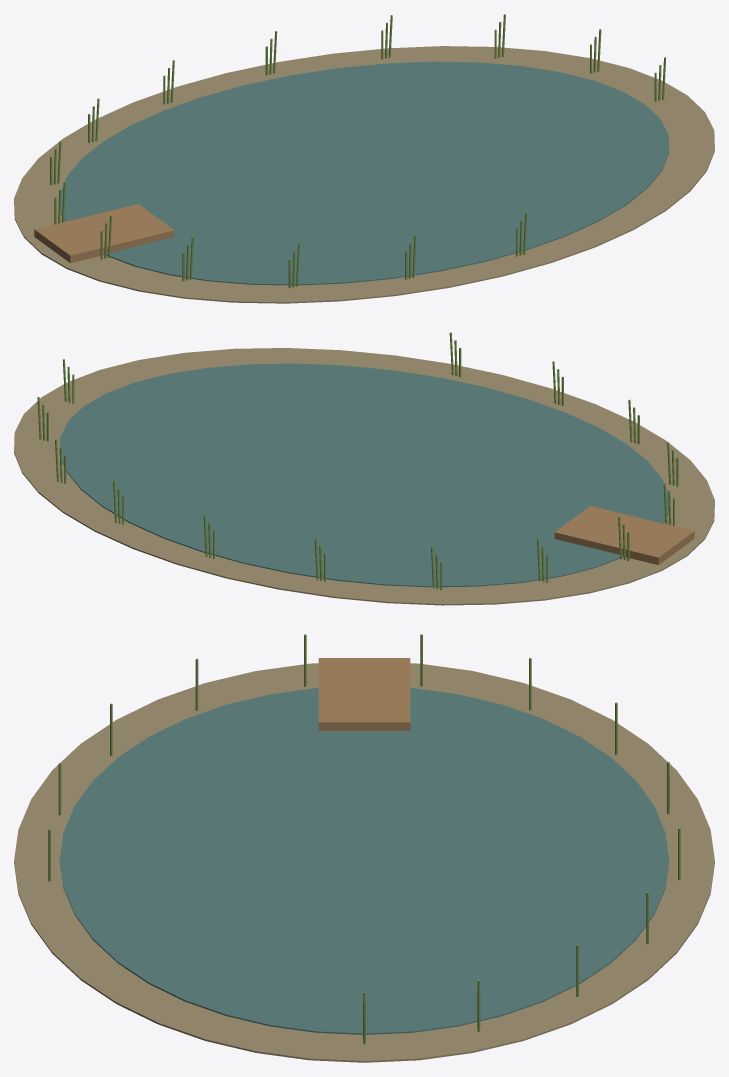
The model's file is pond-ultra.glb.
3 renders of one model, top to bottom at view 1: azimuth 30°, elevation 25°; view 2: azimuth 150°, elevation 25°; view 3: azimuth 270°, elevation 25°, orthographic. The views are drawn at different scales.
Parts seen in each view (by area): view 1: pond; view 2: pond; view 3: pond.
Part boxes in pixels (x1,y1,x2,y2): pond: [14, 14, 714, 303]; pond: [14, 332, 714, 605]; pond: [14, 634, 714, 1062].
Bounding box in the file's own units: 12.42 × 0.8184 × 9.2.
